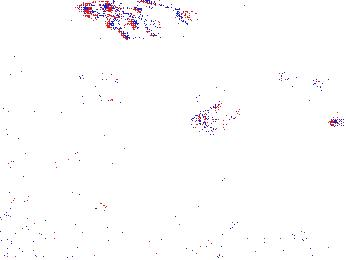X-ray fish: (192, 99, 245, 133)
redtail glassfish: (106, 1, 195, 39), (75, 1, 160, 37), (273, 67, 331, 96)
